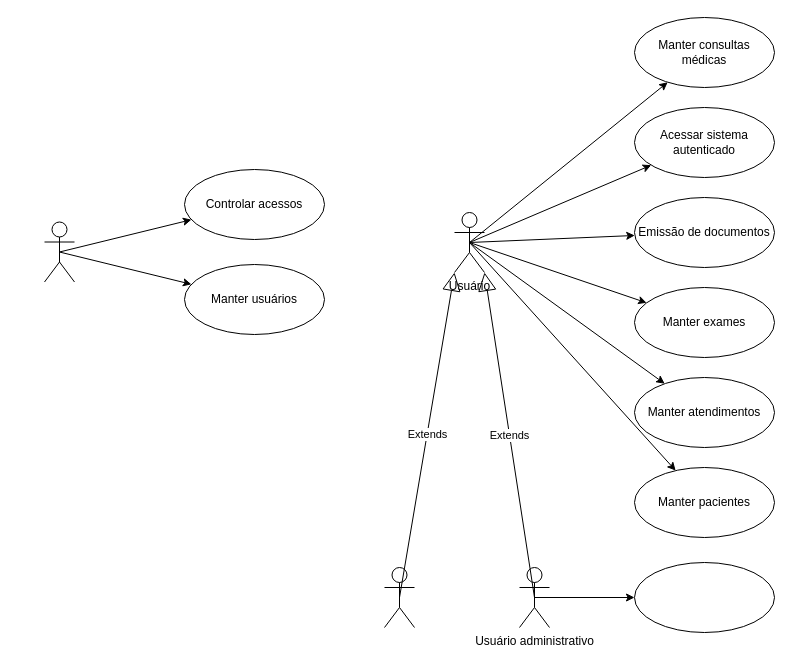
Some shapes in this 792 by 666 pixel diagram are drawn without their labels. Here are the shapes that lost their labels. From the top down, the centre of each, then its label:
At point 59,251: "Usuário gerente".
At point 399,597: "Paciente".
At point 704,597: "Manter funcionários".
